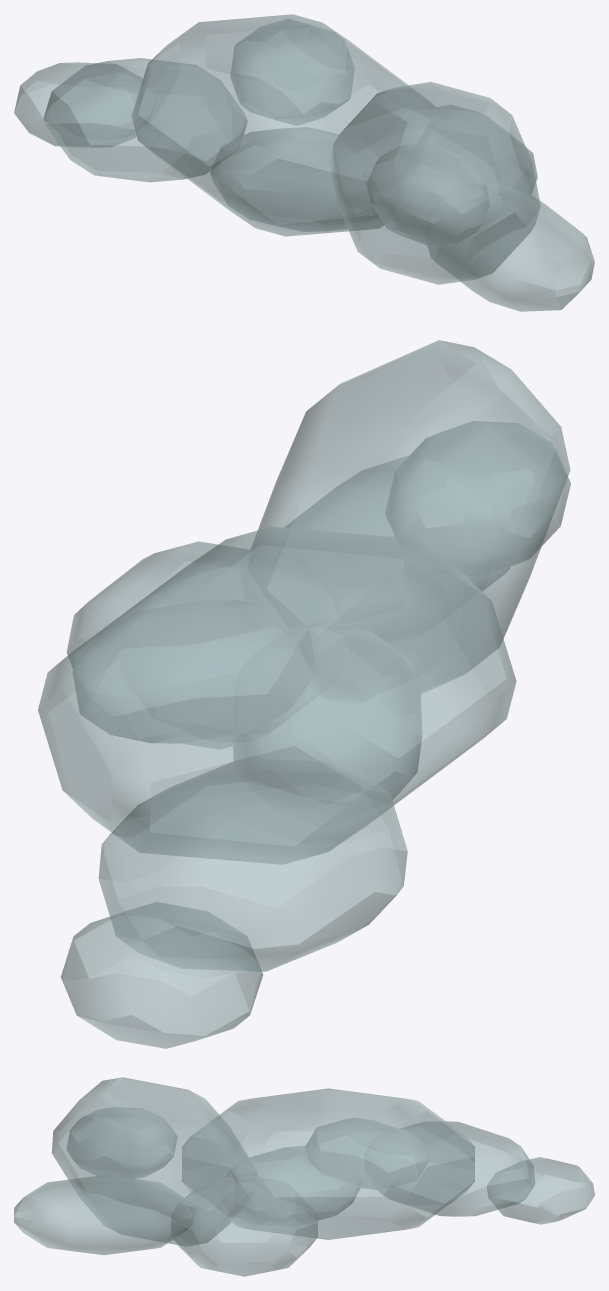
File: cloud-v2.fbx
3 views of the same model, one above another, from view 1: azimuth 30°, elevation 25°; view 2: azimuth 150°, elevation 25°; view 3: azimuth 270°, elevation 25° (orthographic). The views are drawn at different scales.
Parts seen in each view (by area): view 1: group3; view 2: group3; view 3: group3.
Boxes of the visible parts, x1=… form: group3: x1=14, y1=14, x2=594, y2=311; group3: x1=38, y1=340, x2=570, y2=1048; group3: x1=14, y1=1077, x2=594, y2=1276.
Size of the model in its own units: 6.09 by 3.92 by 12.51.
